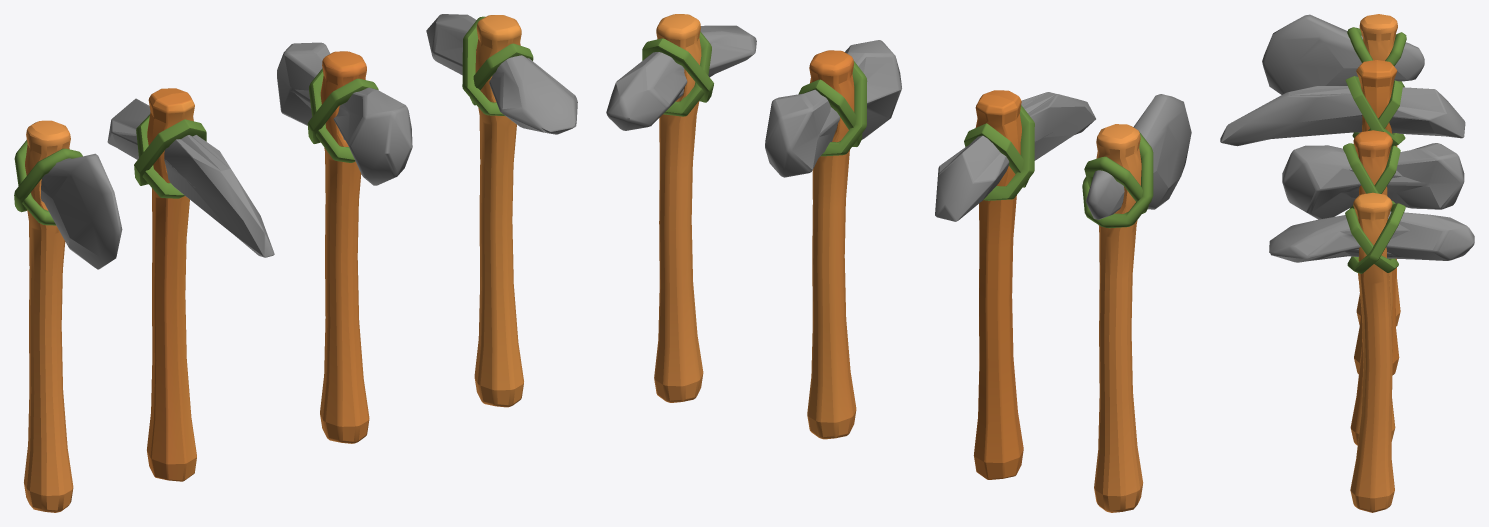
File: StoneTools.fbx
3 renders of one model, left to right at view 1: azimuth 30°, elevation 25°; view 2: azimuth 150°, elevation 25°; view 3: azimuth 270°, elevation 25°, orthographic. The views are drawn at different scales.
Visible parts, largest first — view 1: hammer, Pickaxe, Hoe, axe; view 2: hammer, Pickaxe, Hoe, axe; view 3: Hoe, Pickaxe, hammer, axe.
Part boxes in pixels (<box>): hammer: <box>277,42,412,443</box>; Pickaxe: <box>107,88,274,481</box>; Hoe: <box>426,14,577,407</box>; axe: <box>14,120,122,512</box>; hammer: <box>765,40,901,439</box>; Pickaxe: <box>935,90,1095,479</box>; Hoe: <box>606,14,756,402</box>; axe: <box>1082,94,1191,512</box>; Hoe: <box>1269,192,1474,512</box>; Pickaxe: <box>1220,60,1465,374</box>; hammer: <box>1282,130,1464,445</box>; axe: <box>1262,14,1424,326</box>.
Size of the model in its own units: 195 by 140 by 102.
